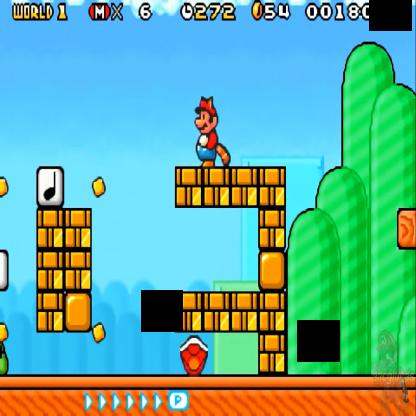Mario: (194, 92, 234, 167)
caparazon: (177, 332, 211, 373)
moneda: (250, 0, 264, 26)
